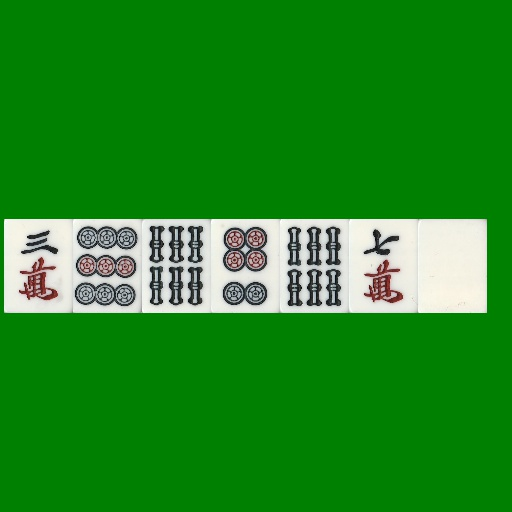3m: (4, 219, 73, 313)
6p: (211, 219, 280, 313)
6s: (142, 219, 211, 313), (280, 219, 349, 313)
7m: (349, 219, 418, 313)
9p: (73, 219, 142, 313)
white: (418, 219, 487, 313)
